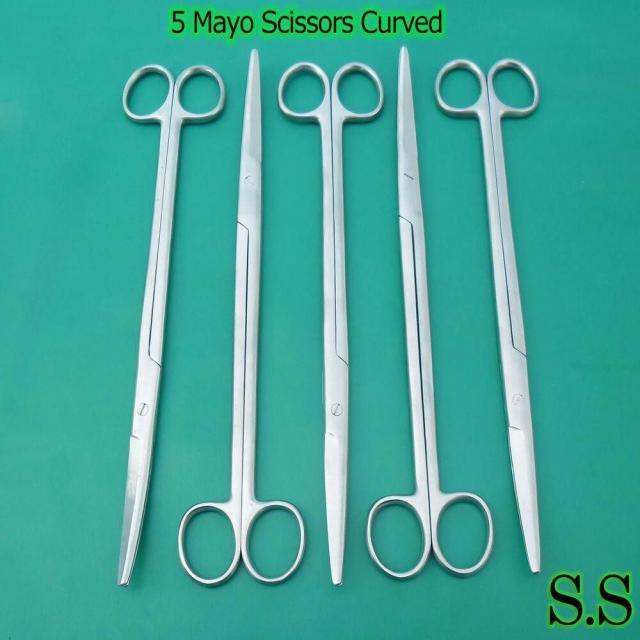Mayo_metz: (175, 42, 312, 590), (363, 38, 500, 584), (112, 59, 230, 590), (274, 57, 391, 590), (433, 52, 545, 578)
